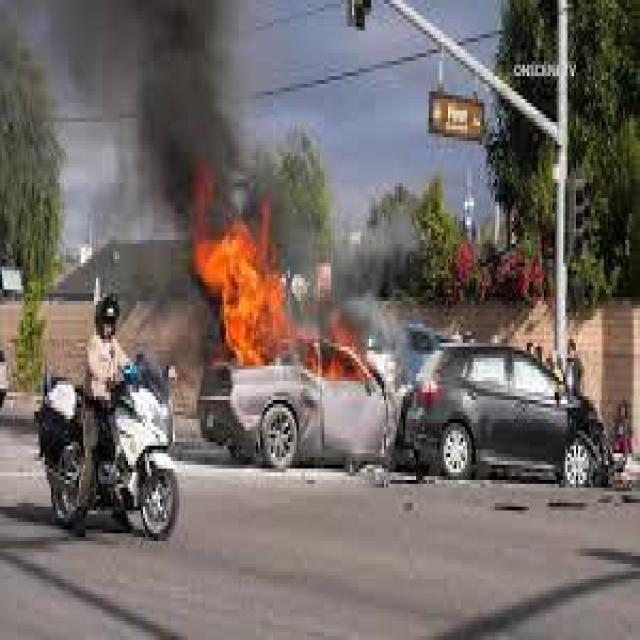severe: (194, 294, 619, 492)
